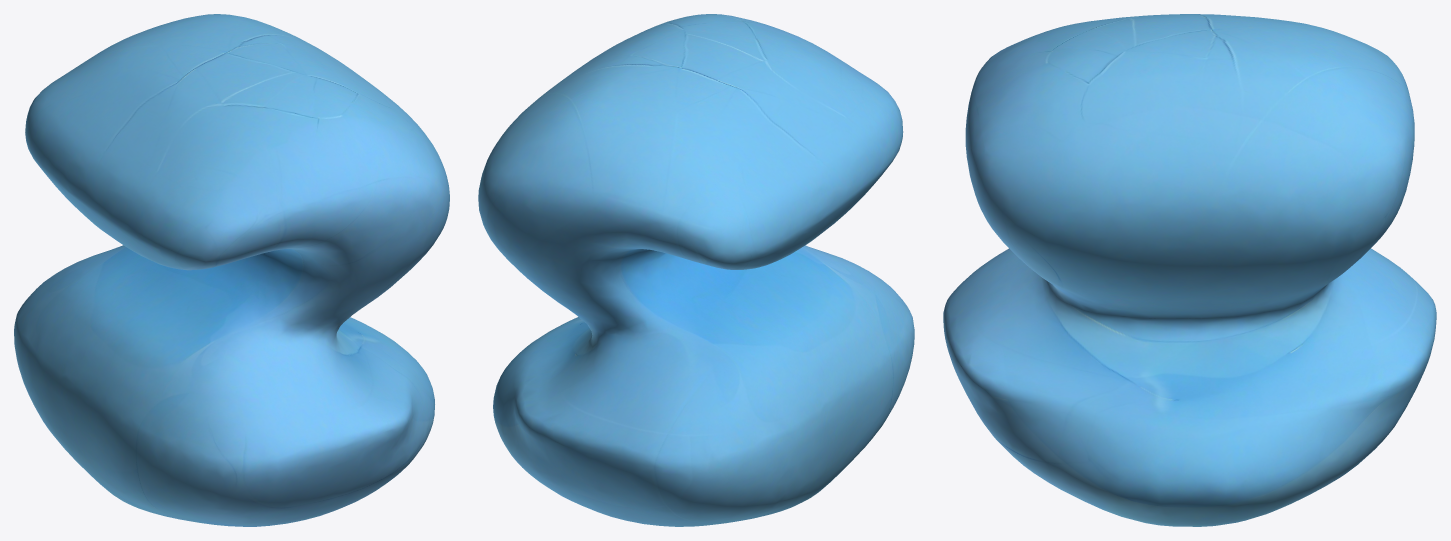
File: blue-water-piece.glb
The picture shows the model from 3 angles, left to right: view 1: azimuth 30°, elevation 25°; view 2: azimuth 150°, elevation 25°; view 3: azimuth 270°, elevation 25°; orthographic projection. The views are drawn at different scales.
Bounding box in the file's own units: 1.2 × 1.47 × 1.48.
1 material, 1 textured.
